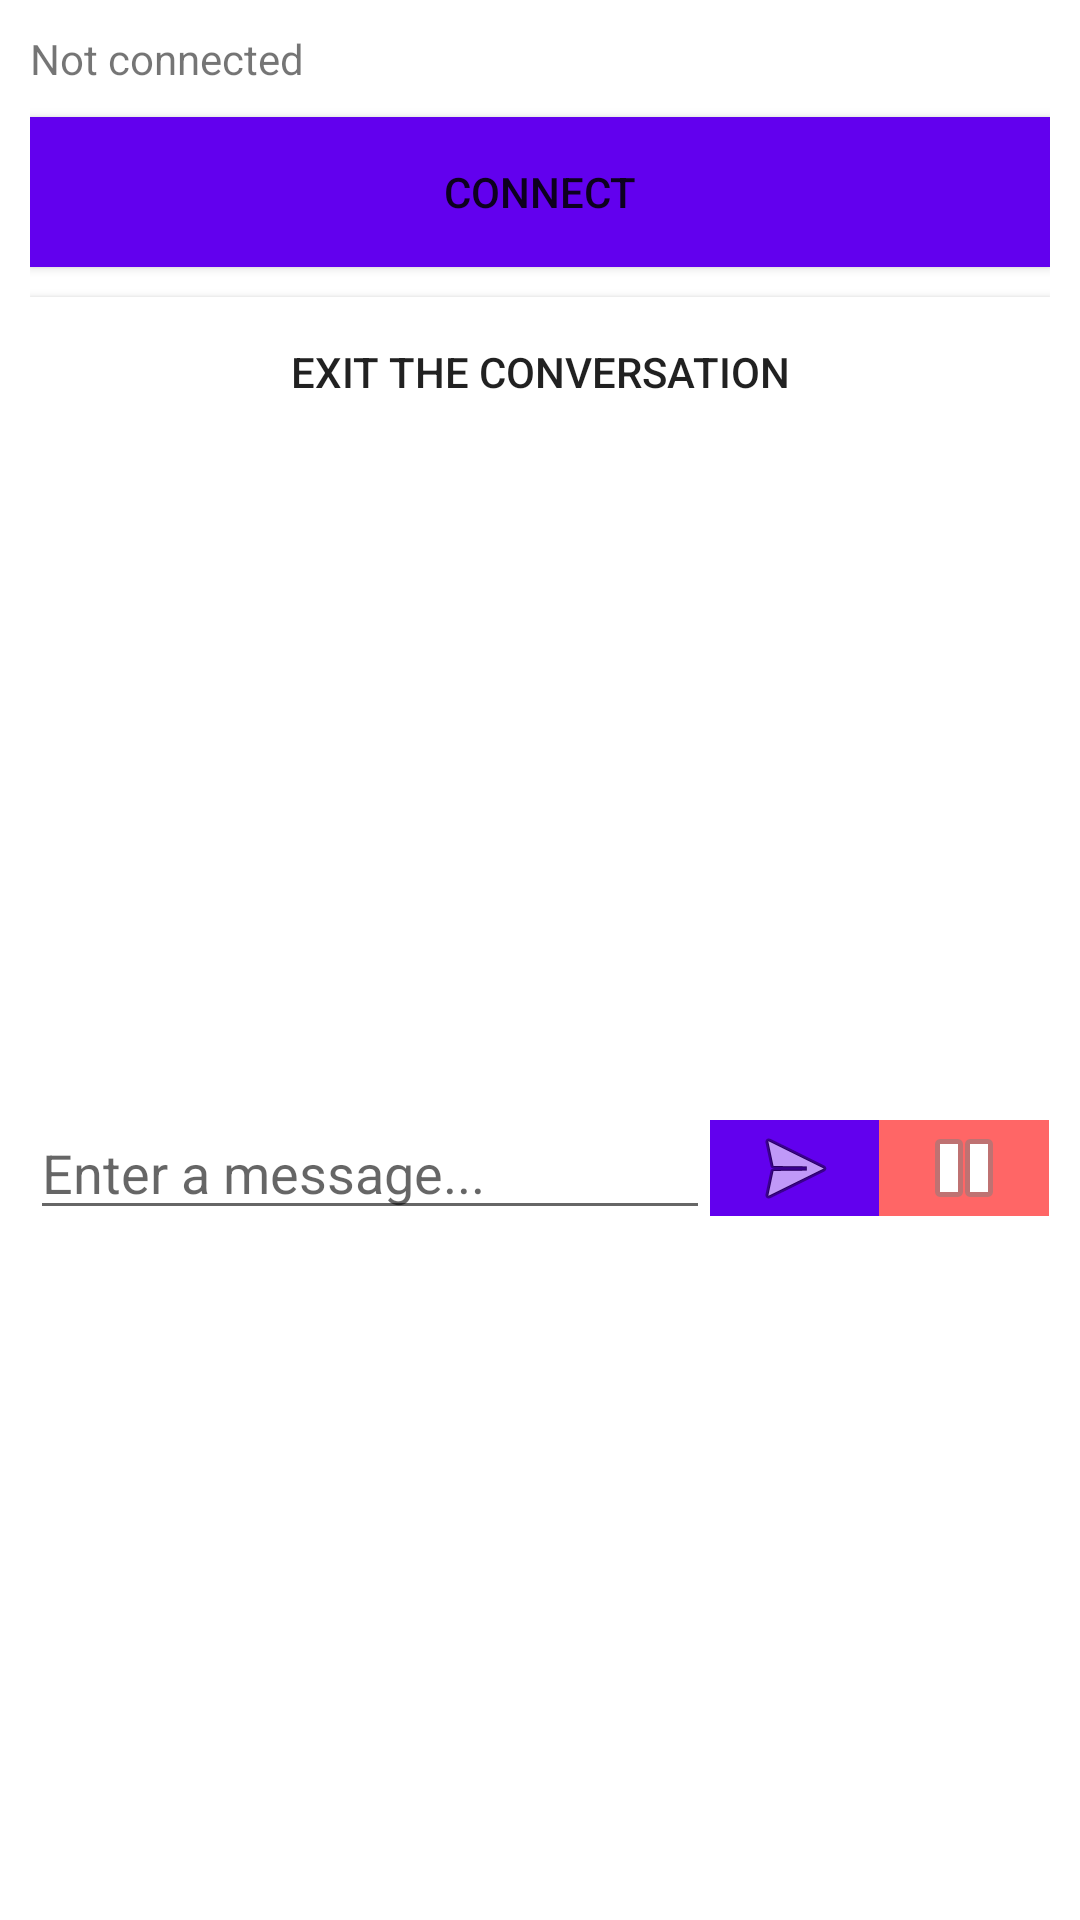

Screen size 1080w x 1920h. Icon name, then its center in pixels as [x,y]:
pause: [964,1168]
send: [794,1168]
